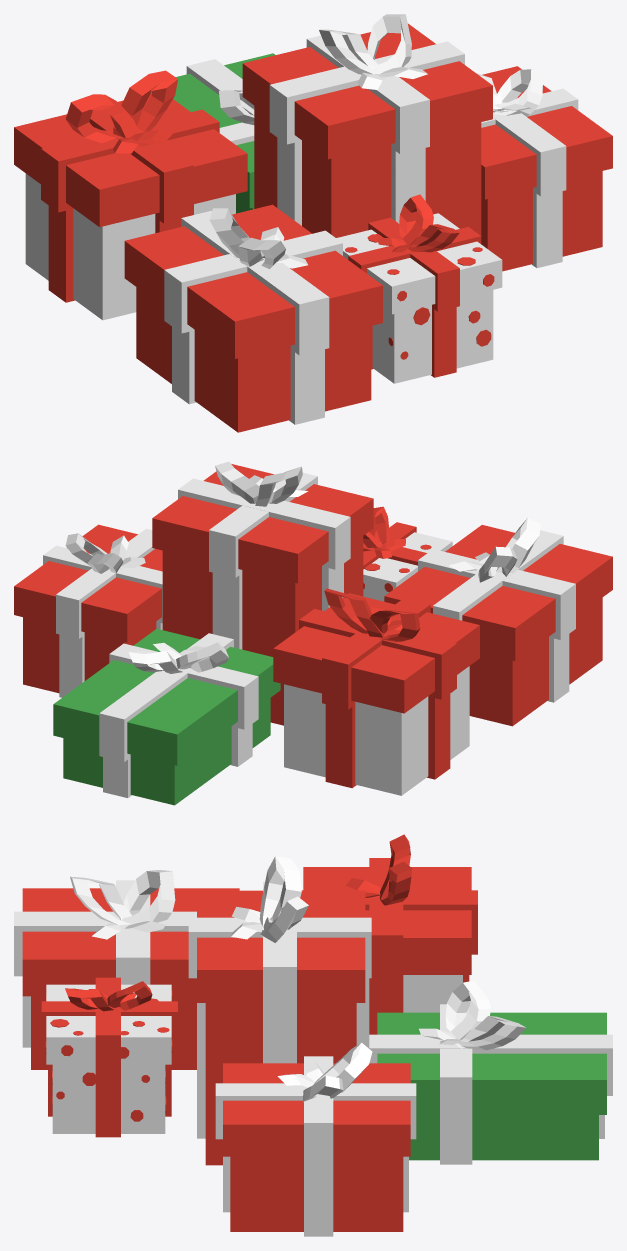
The model's file is Christmas Presents.glb.
3 views of the same model, one above another, from view 1: azimuth 30°, elevation 25°; view 2: azimuth 150°, elevation 25°; view 3: azimuth 270°, elevation 25° (orthographic). The views are drawn at different scales.
Visible parts, largest first — view 1: group1997243227, group252728289, group2127621422, group1506610241, group1886123043, group749557293, group2013220817, group1999514590, group486113820, group581160294, group927125873, group1394401119 (+24 smaller); view 2: group1540346602, group1997243227, group749557293, group2127621422, group252728289, group1886123043, group2013220817, group1506610241, group1262929608, group724970721, group486113820, group1999514590 (+23 smaller); view 3: group1540346602, group2127621422, group2013220817, group1999514590, group1997243227, group252728289, group1886123043, group1262929608, group581160294, group927125873, group486113820, group1941880835 (+25 smaller).
Part boxes in pixels (bbox=[...]): group1997243227: bbox=[124, 204, 382, 358]; group252728289: bbox=[254, 106, 481, 237]; group2127621422: bbox=[242, 23, 492, 159]; group1506610241: bbox=[136, 287, 371, 432]; group1886123043: bbox=[14, 93, 247, 227]; group749557293: bbox=[25, 173, 235, 320]; group2013220817: bbox=[481, 66, 612, 199]; group1999514590: bbox=[481, 171, 602, 271]; group486113820: bbox=[41, 109, 219, 302]; group581160294: bbox=[372, 290, 493, 383]; group927125873: bbox=[336, 213, 502, 314]; group1394401119: bbox=[181, 211, 329, 355]; group1540346602: bbox=[53, 628, 280, 765]; group1997243227: bbox=[384, 525, 612, 661]; group749557293: bbox=[284, 666, 469, 795]; group2127621422: bbox=[152, 464, 373, 583]; group252728289: bbox=[162, 536, 363, 725]; group1886123043: bbox=[273, 593, 479, 713]; group2013220817: bbox=[14, 524, 162, 642]; group1506610241: bbox=[469, 597, 602, 726]; group1262929608: bbox=[63, 698, 270, 805]; group724970721: bbox=[322, 598, 430, 788]; group486113820: bbox=[299, 609, 456, 779]; group1999514590: bbox=[23, 617, 156, 693]; group1540346602: bbox=[377, 1012, 606, 1114]; group2127621422: bbox=[197, 890, 365, 1002]; group2013220817: bbox=[223, 1063, 410, 1156]; group1999514590: bbox=[230, 1156, 403, 1231]; group1997243227: bbox=[22, 888, 239, 996]; group252728289: bbox=[205, 1003, 356, 1165]; group1886123043: bbox=[303, 867, 471, 974]; group1262929608: bbox=[409, 1115, 598, 1160]; group581160294: bbox=[52, 1064, 165, 1133]; group927125873: bbox=[46, 984, 171, 1064]; group486113820: bbox=[369, 858, 403, 1034]; group1941880835: bbox=[70, 870, 175, 939].
Bounding box in the file's own units: 2.62 × 1.33 × 2.81.
